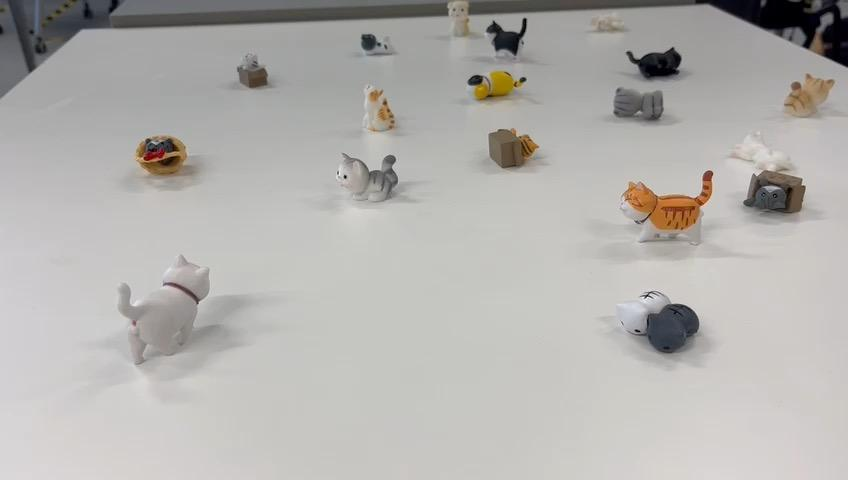pet: (115, 253, 211, 365), (619, 166, 715, 248), (613, 285, 702, 355), (332, 146, 401, 208), (727, 127, 811, 169), (741, 169, 807, 214), (134, 129, 190, 179), (782, 71, 837, 120), (485, 123, 541, 169), (481, 15, 531, 62), (466, 67, 528, 102), (613, 86, 666, 123), (625, 45, 682, 79), (361, 81, 397, 133), (233, 50, 273, 91), (358, 31, 399, 60), (588, 10, 630, 36), (446, 0, 470, 40)
